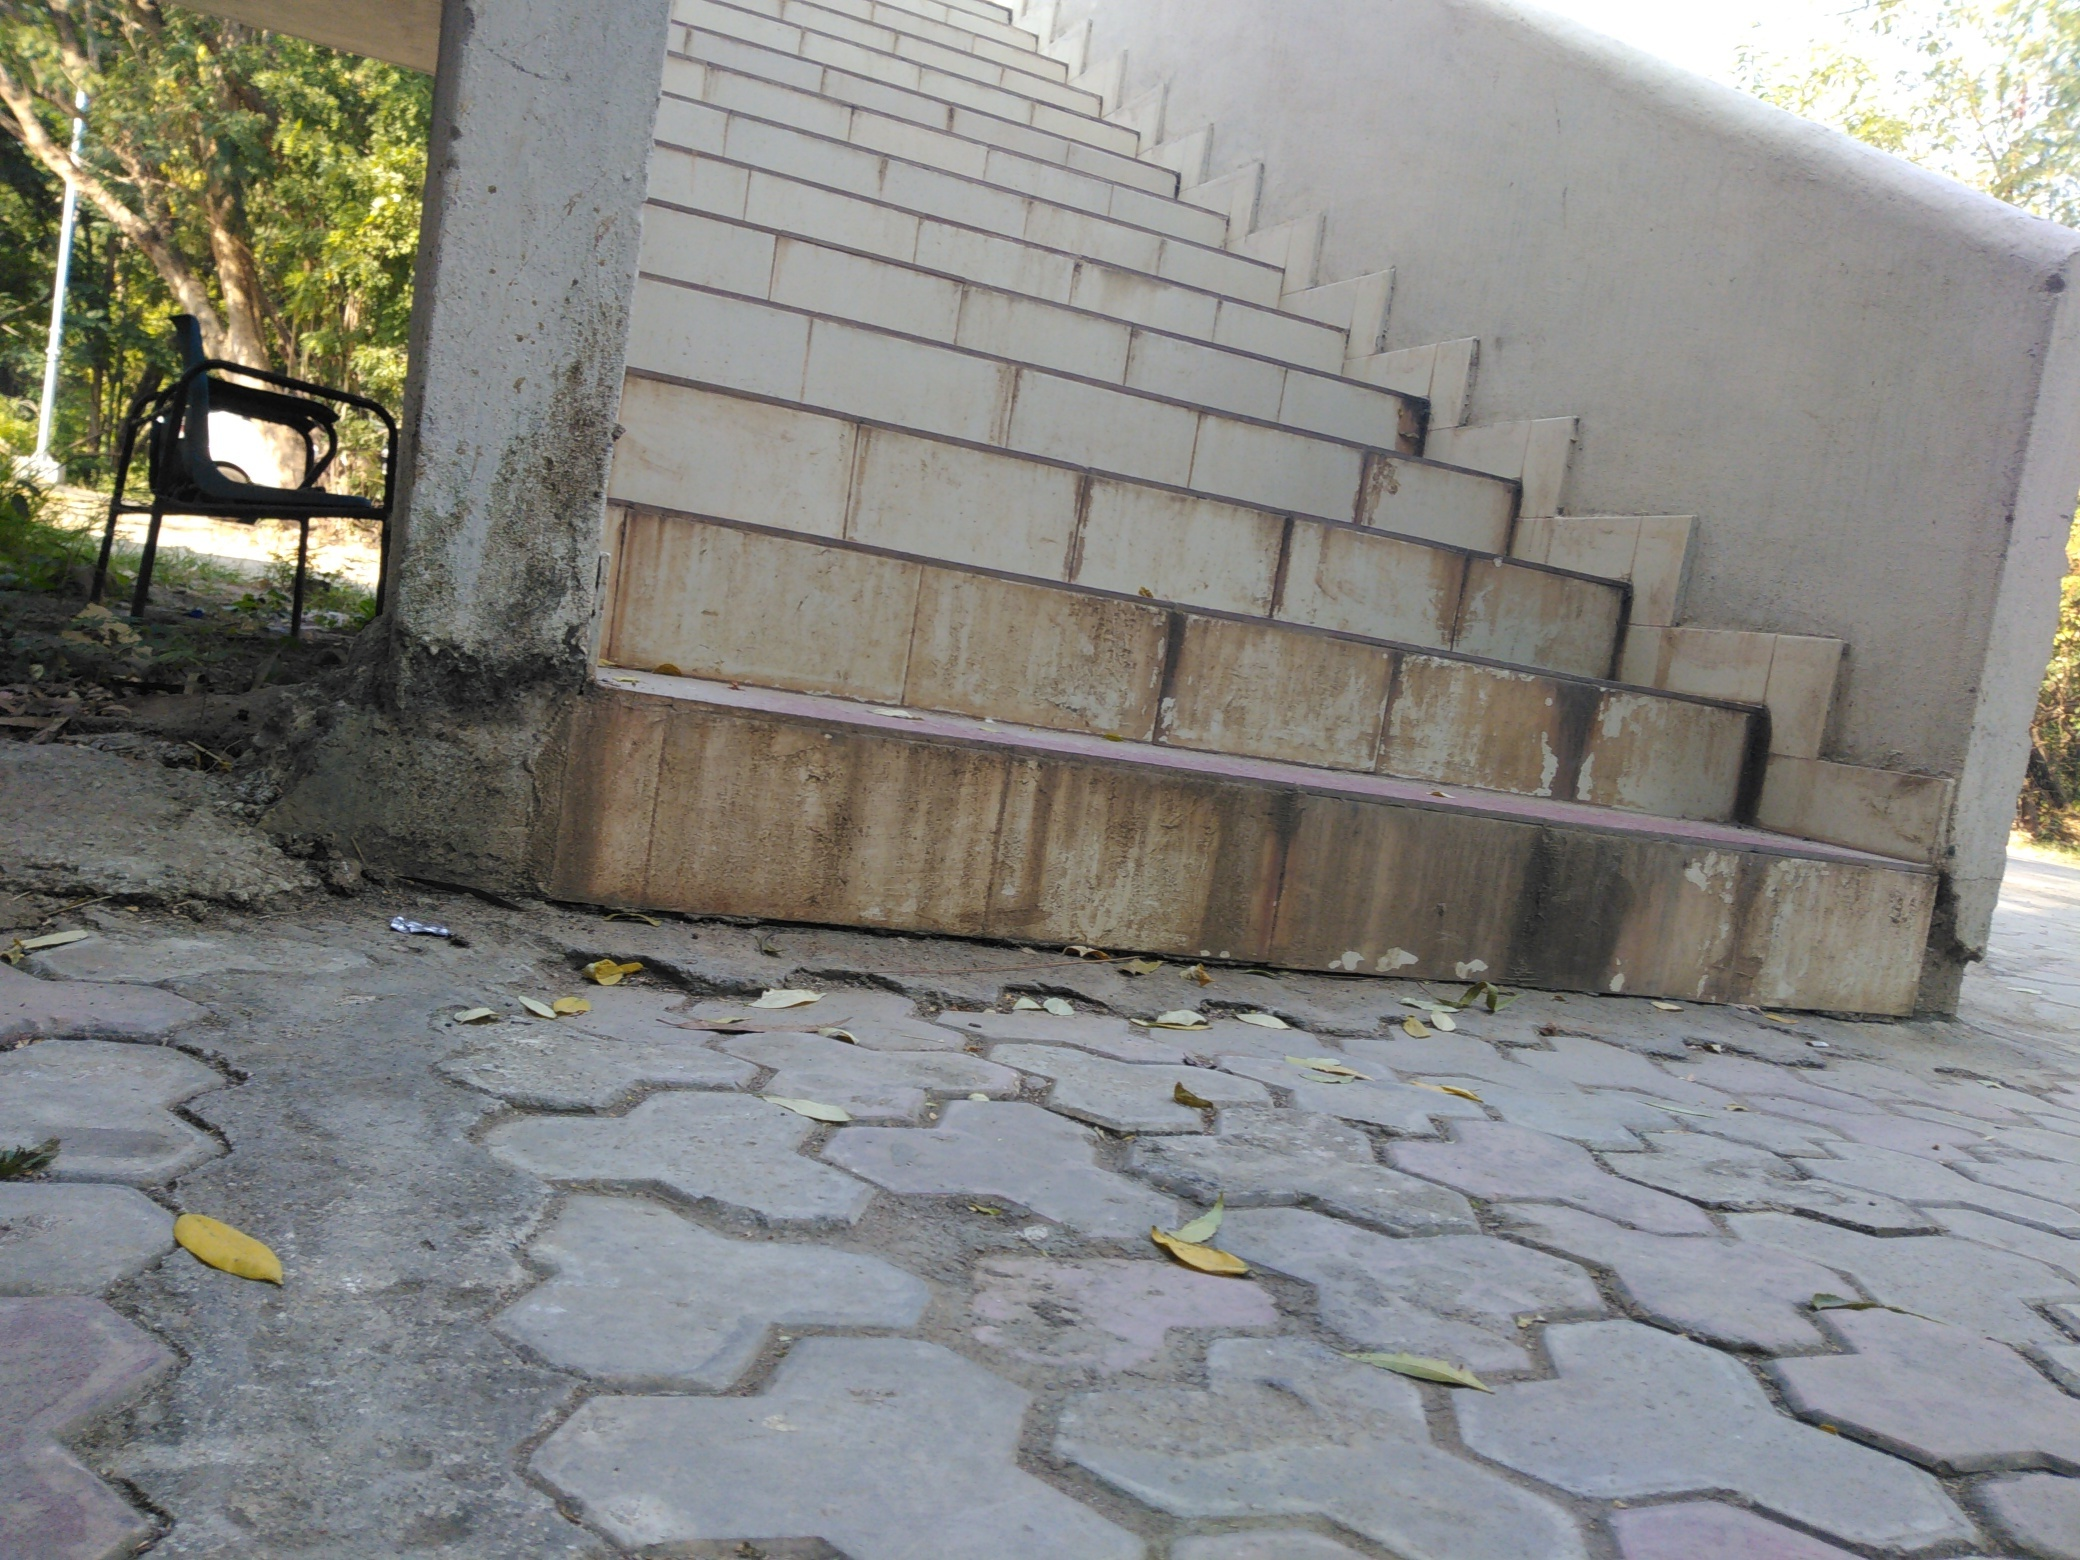stairs_up: (573, 2, 1949, 1050)
